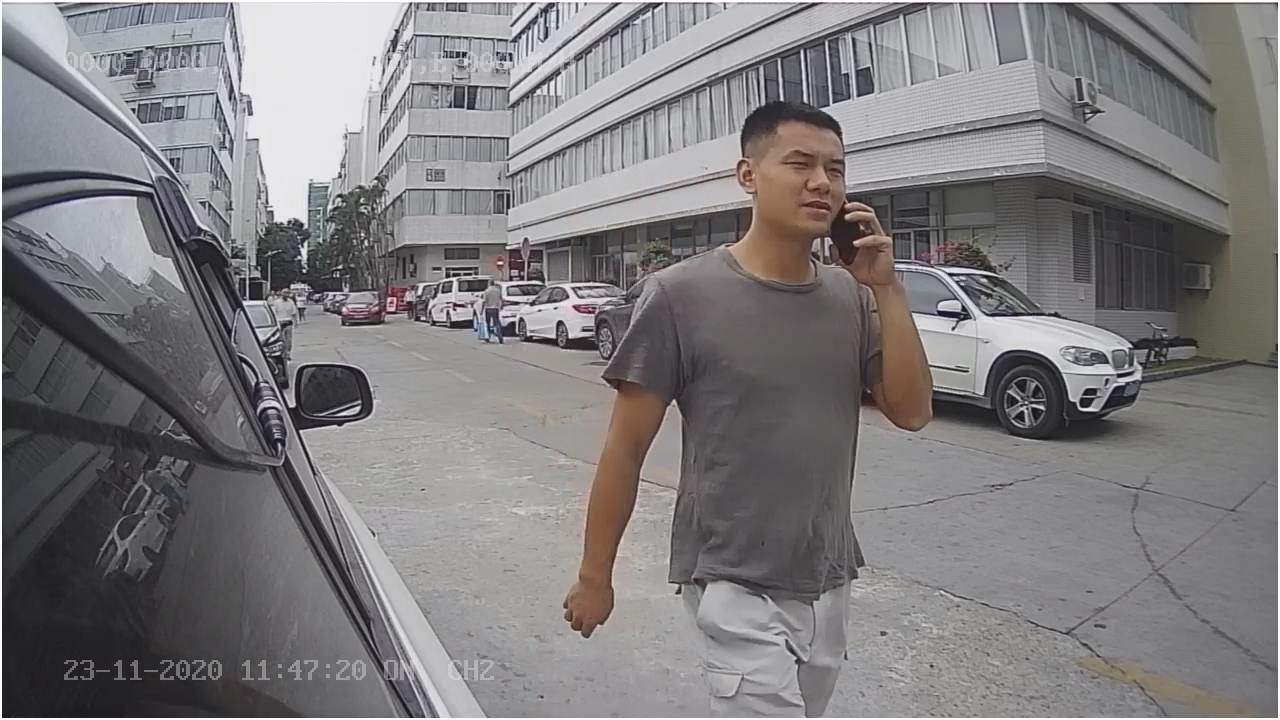person: (563, 83, 936, 643)
